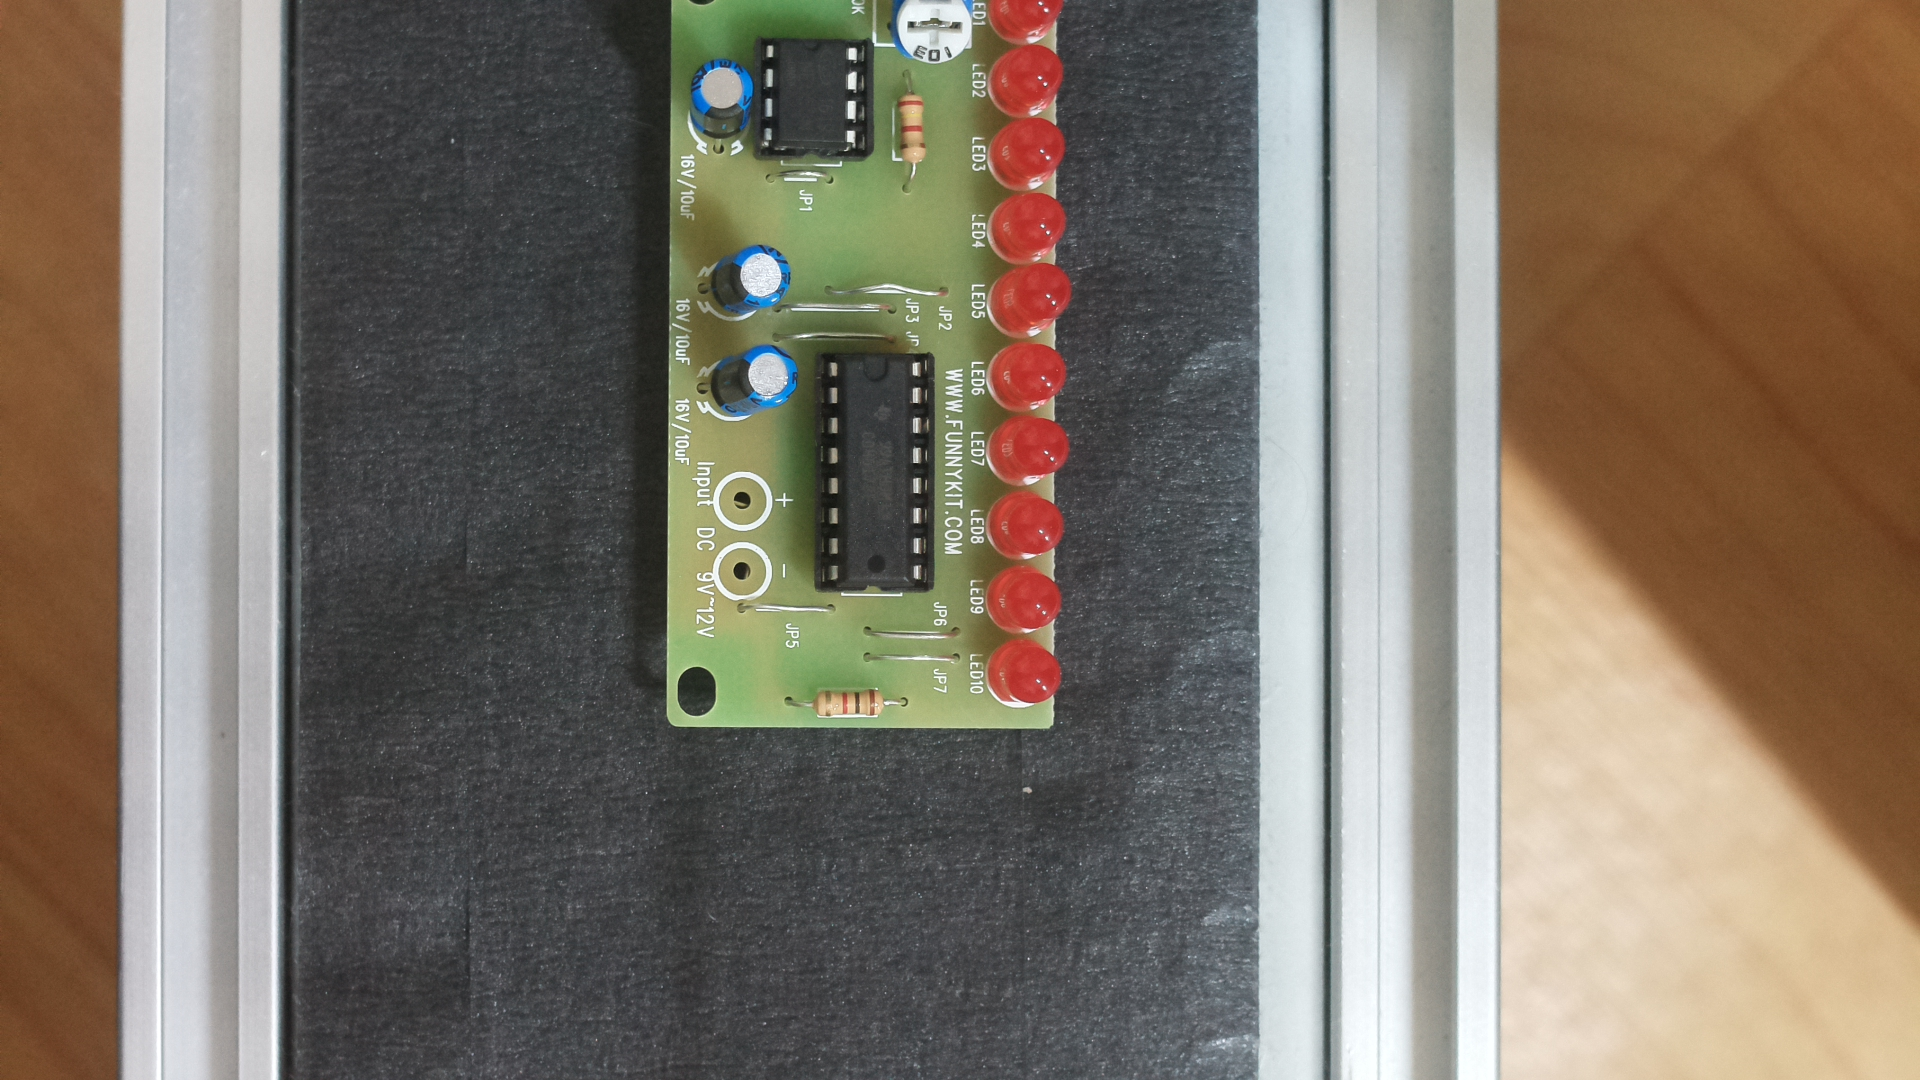B_Normal: (663, 8, 1069, 745)
